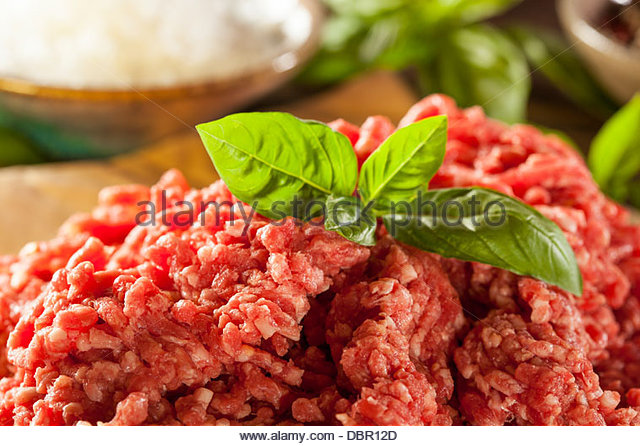ground_beef: (17, 163, 635, 423)
